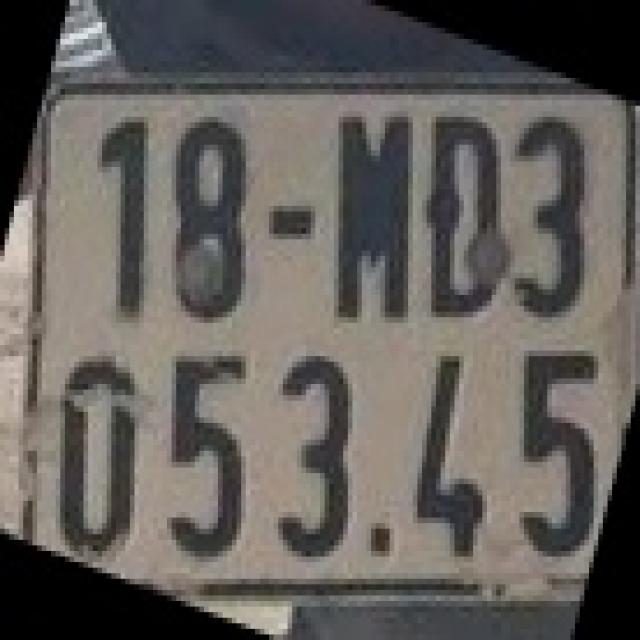0: (55, 345, 144, 551)
1: (92, 111, 158, 318)
3: (274, 351, 357, 562), (510, 111, 589, 318)
4: (412, 345, 492, 562)
5: (162, 345, 250, 562), (515, 345, 603, 562)
8: (167, 111, 250, 318)
B: (422, 111, 501, 318)
M: (332, 103, 415, 320)
